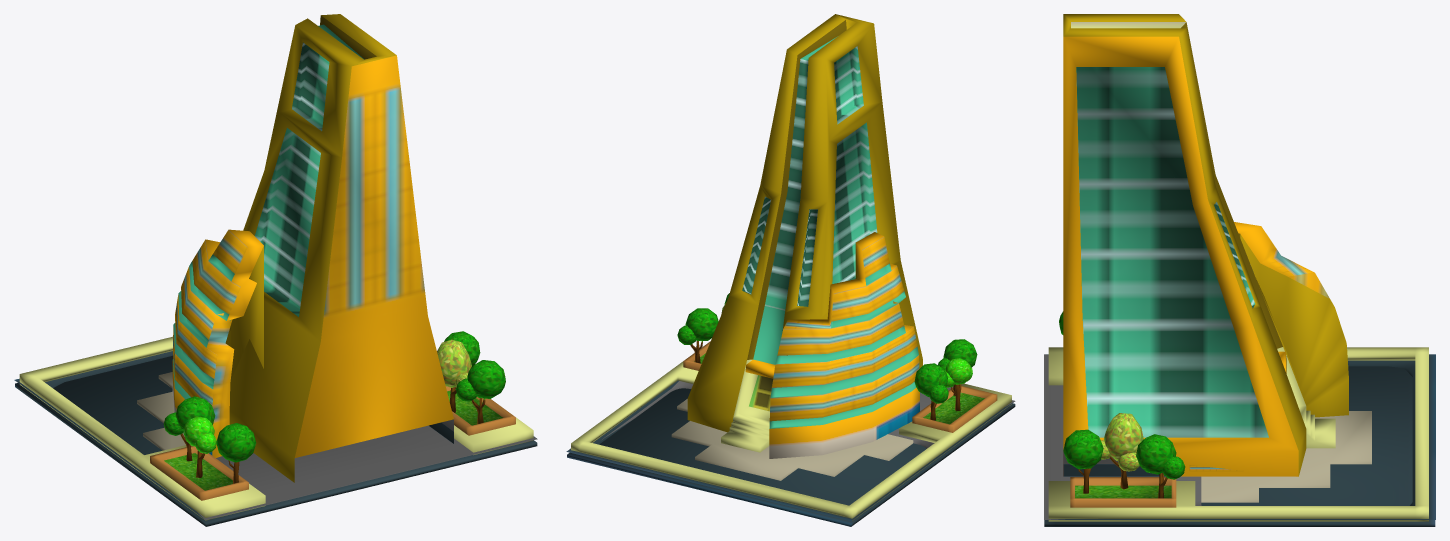
Rendered from brokerage_LV1.fbx.
3 renders of one model, left to right at view 1: azimuth 30°, elevation 25°; view 2: azimuth 150°, elevation 25°; view 3: azimuth 270°, elevation 25°, orthographic. The views are drawn at different scales.
Parts seen in each view (by area): view 1: brokerage lv 1; view 2: brokerage lv 1; view 3: brokerage lv 1.
Part boxes in pixels (left/top/right/bottom): brokerage lv 1: left=14, top=14, right=537, bottom=526; brokerage lv 1: left=566, top=14, right=1015, bottom=526; brokerage lv 1: left=1044, top=14, right=1435, bottom=526.
Size of the model in its own units: 100 by 120 by 100.
